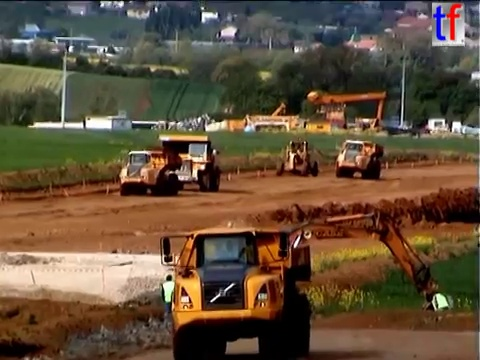crane: (305, 87, 389, 131)
excavator: (172, 208, 456, 333)
motor grader: (274, 138, 319, 178)
truck: (157, 225, 315, 360), (154, 132, 221, 193), (117, 147, 185, 197), (331, 138, 386, 181)
worker: (158, 273, 180, 320)
